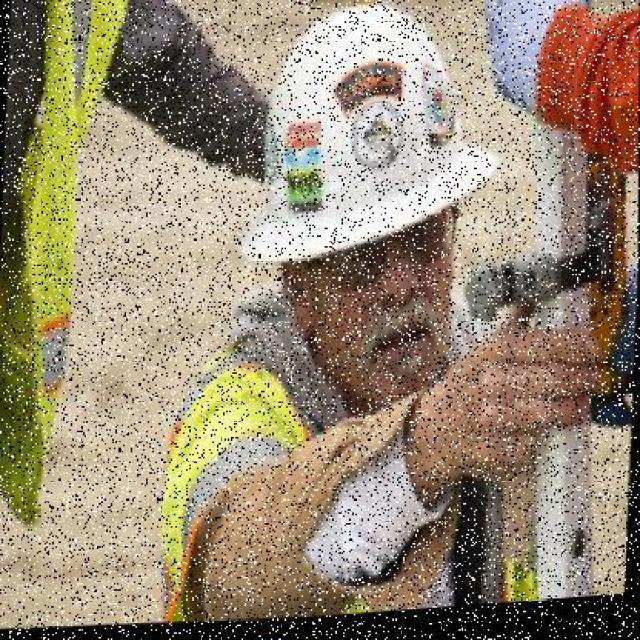helmet: (245, 0, 494, 268)
